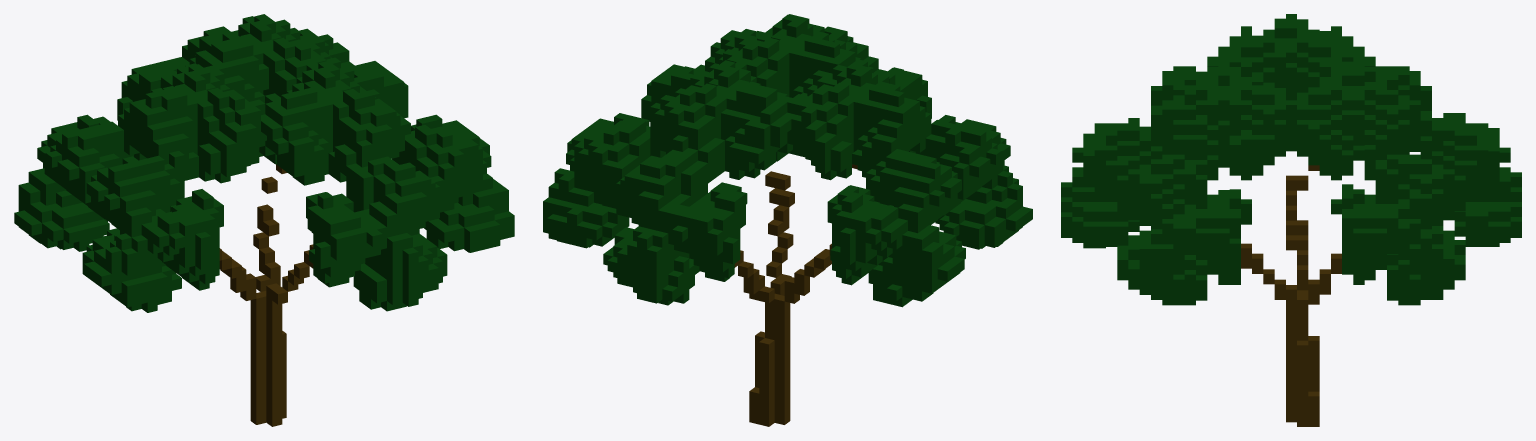
Rendered from AllSimpleModel-4-Tree1.obj.
3 renders of one model, left to right at view 1: azimuth 30°, elevation 25°; view 2: azimuth 150°, elevation 25°; view 3: azimuth 270°, elevation 25°, orthographic. The views are drawn at different scales.
Visible parts, largest first — view 1: Tree1; view 2: Tree1; view 3: Tree1.
Part boxes in pixels (x1,y1,x2,y2): Tree1: (14,14,514,426); Tree1: (543,14,1032,426); Tree1: (1061,14,1521,426).
Bounding box in the file's own units: 3.8 × 3.4 × 4.1.
1 material, 1 textured.
